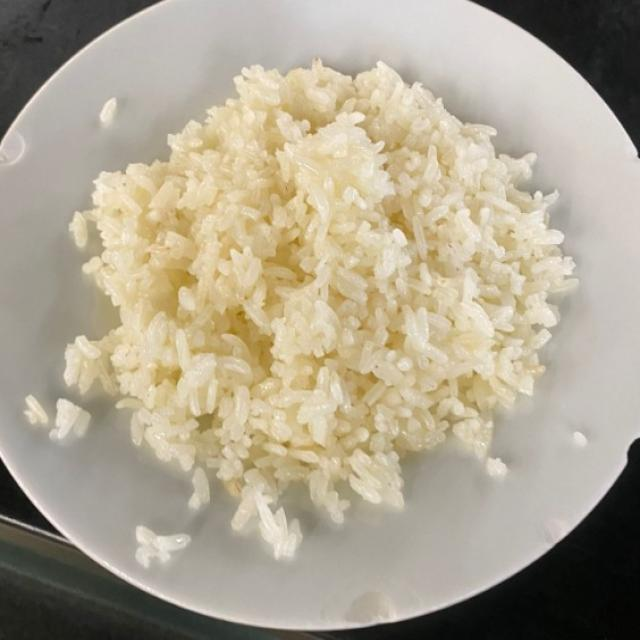ana_yemek: (39, 58, 572, 572)
